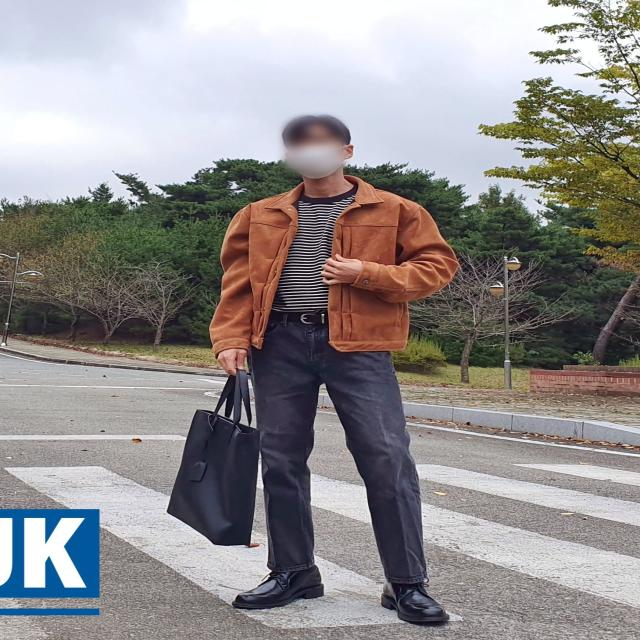denimpants: (249, 312, 428, 591)
jacket: (209, 178, 458, 358)
